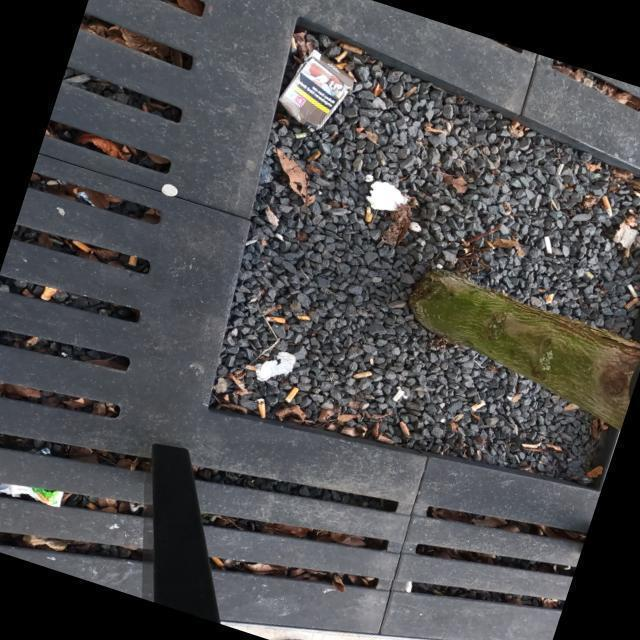Paper: (277, 46, 355, 134), (364, 178, 410, 212), (255, 350, 298, 382)
Plastic: (0, 482, 64, 508)
